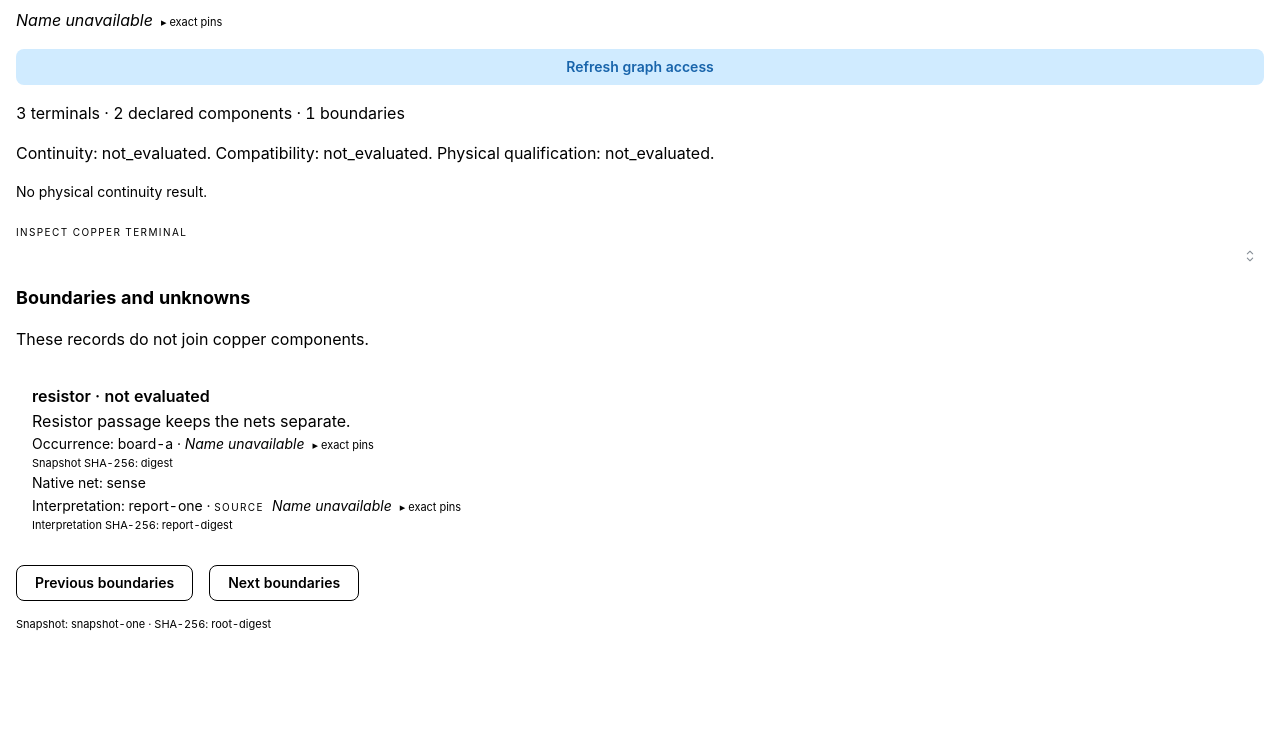
Scenario: terminal and evidence pagination remain independent for large declared components
Focus the dropdown labelled "Inspect copper terminal" at (640,256), box [16,243,1264,269]
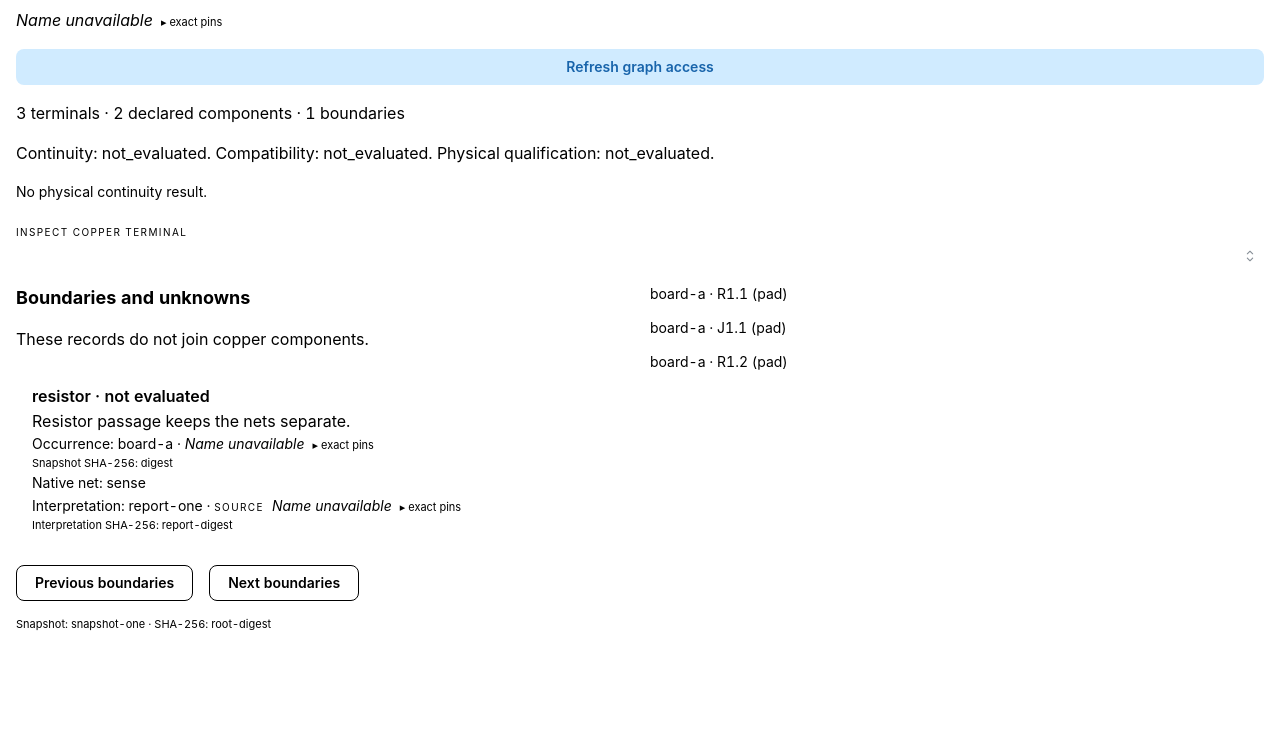
Press ArrowDown in the dropdown labelled "Inspect copper terminal", box [16,243,1264,269]
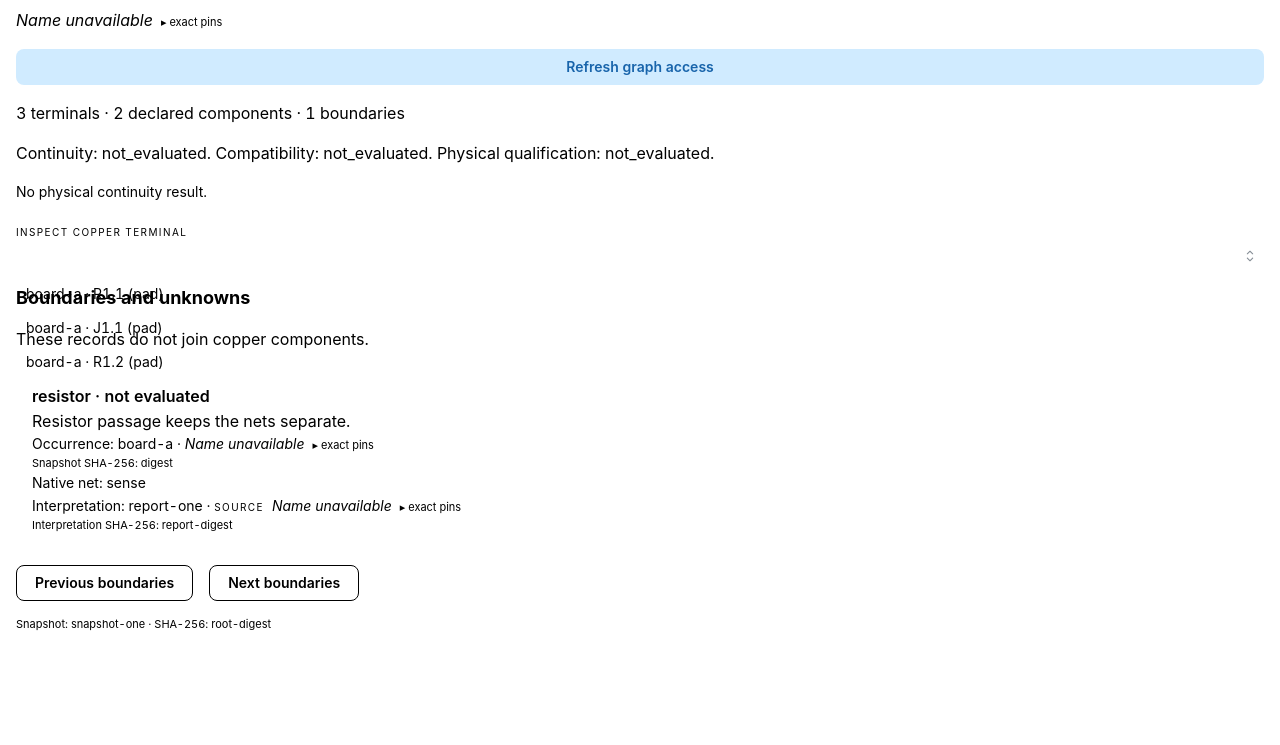
Click the option "board-a · R1.1 (pad)" at (95,294), box [26,285,164,302]
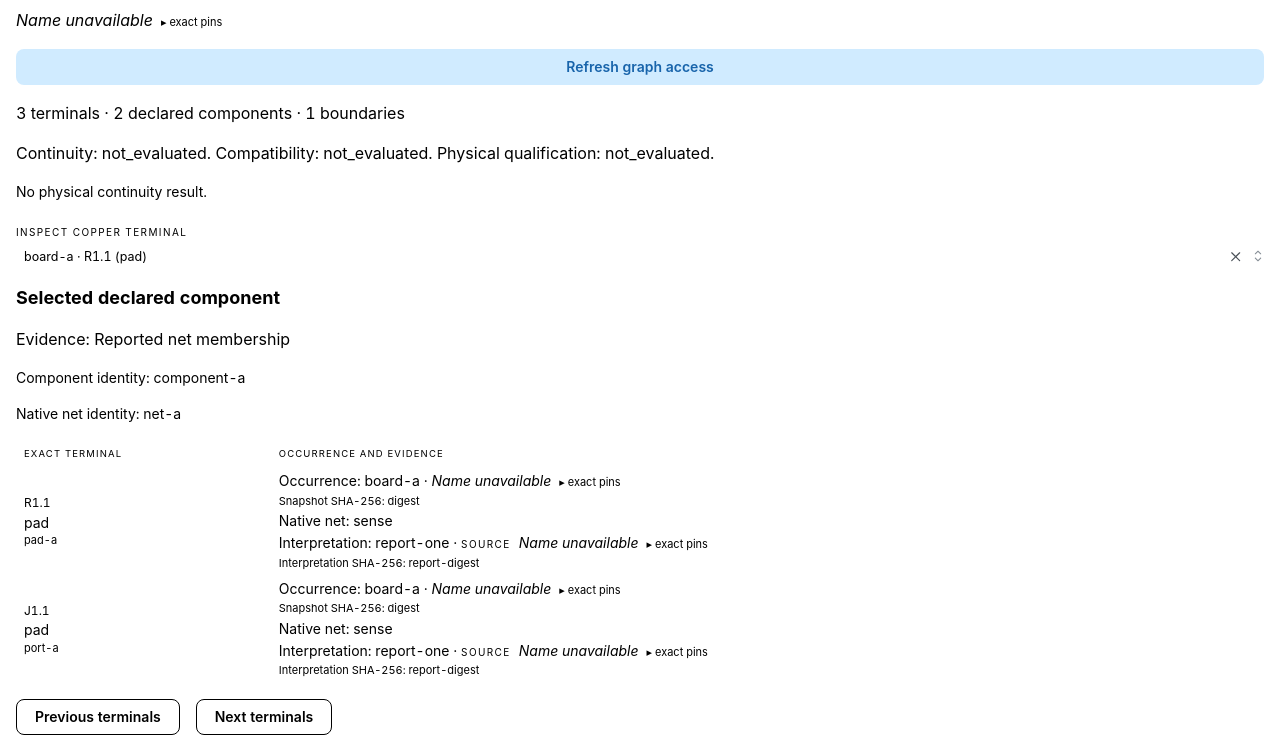
Press Escape in the dropdown labelled "Inspect copper terminal", box [16,243,1264,269]
(page scrolled)
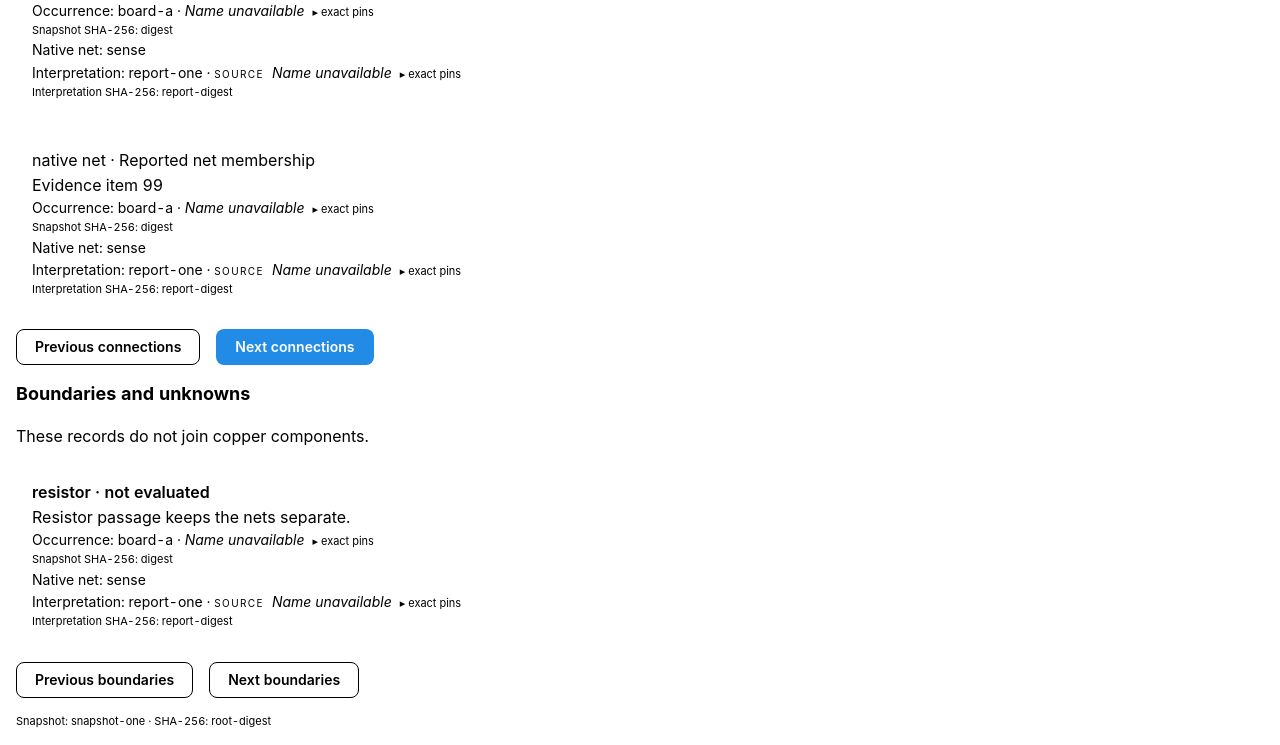
Click the button "Next connections" at (295,348), box [216,330,374,366]
(page scrolled)
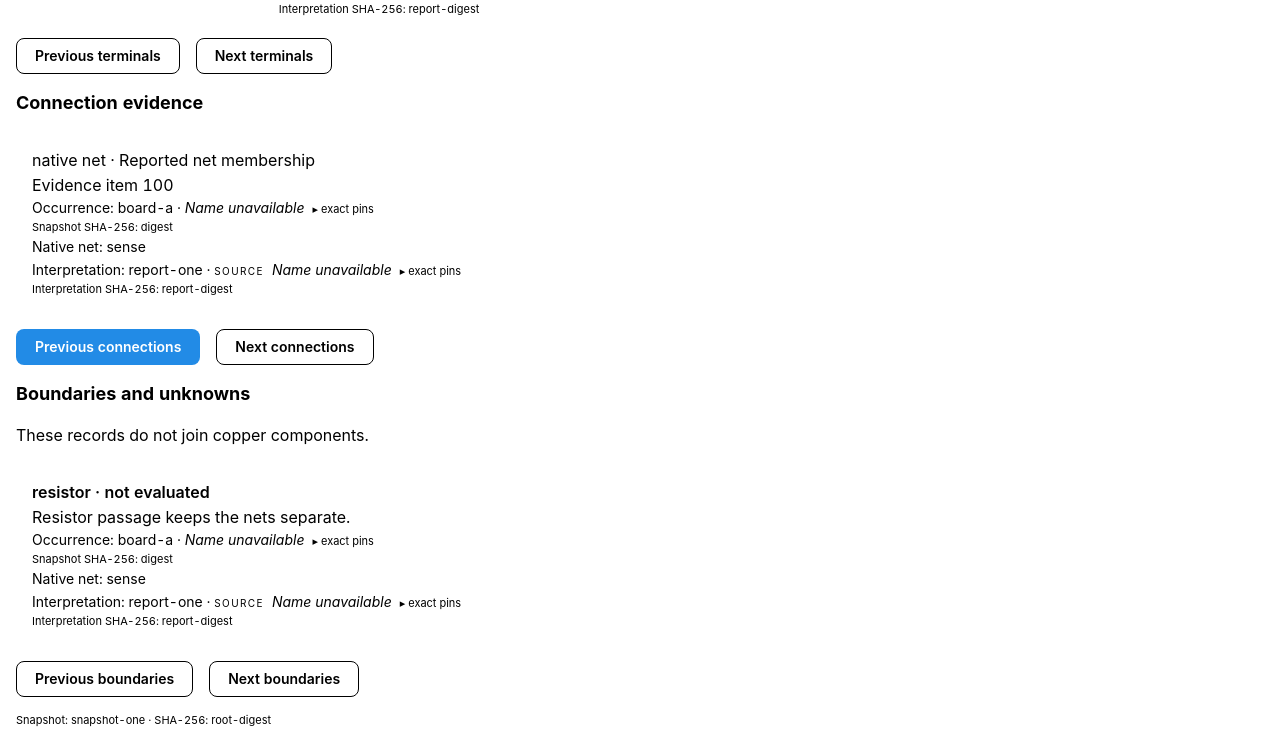
expect the text "Evidence item 100" is shown: met, box [32,175,174,195]
